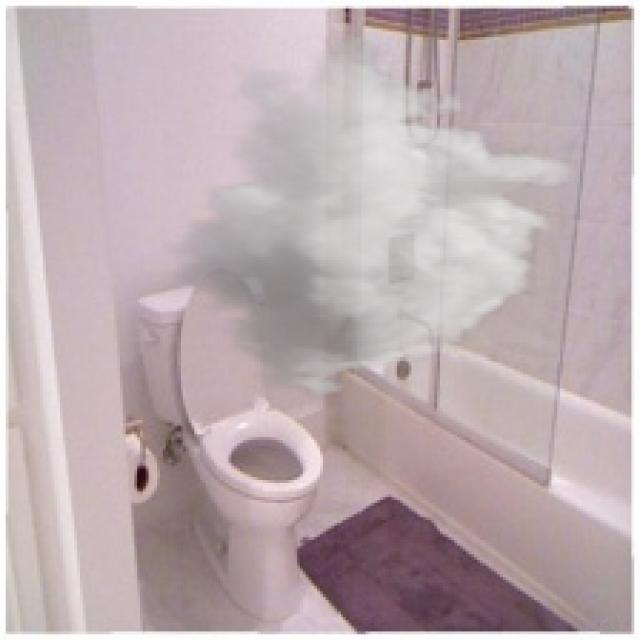smoke: (163, 31, 583, 400)
